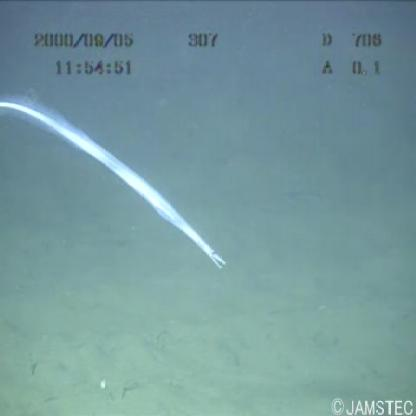Bio: (1, 94, 230, 272)
